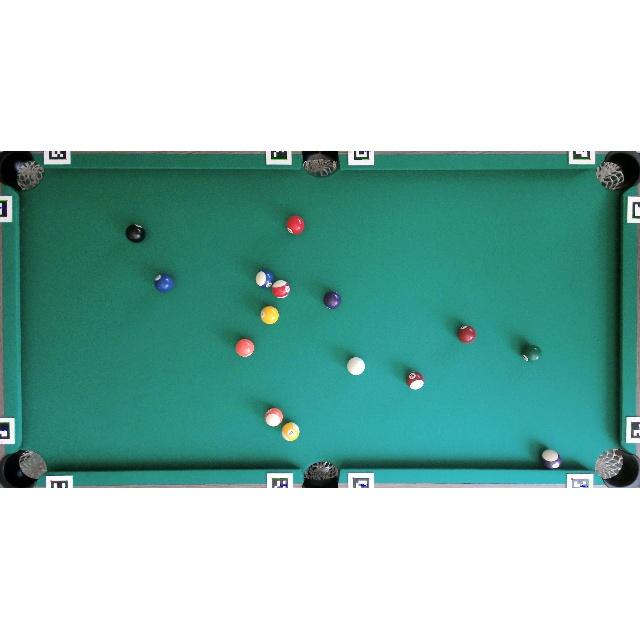cue ball: (346, 356, 366, 376)
other: (234, 337, 255, 358), (541, 449, 562, 470), (285, 214, 305, 236), (153, 273, 174, 293), (125, 223, 146, 243), (255, 269, 275, 289), (271, 279, 291, 299), (264, 408, 284, 428), (405, 370, 425, 390), (259, 305, 280, 324), (323, 290, 342, 310), (457, 325, 477, 344), (282, 422, 300, 442), (522, 344, 541, 362)
